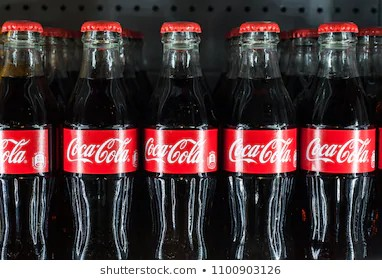coke-glass-bottle: (58, 8, 140, 259), (141, 16, 218, 262), (225, 17, 299, 260), (306, 18, 377, 261), (1, 19, 63, 259)
